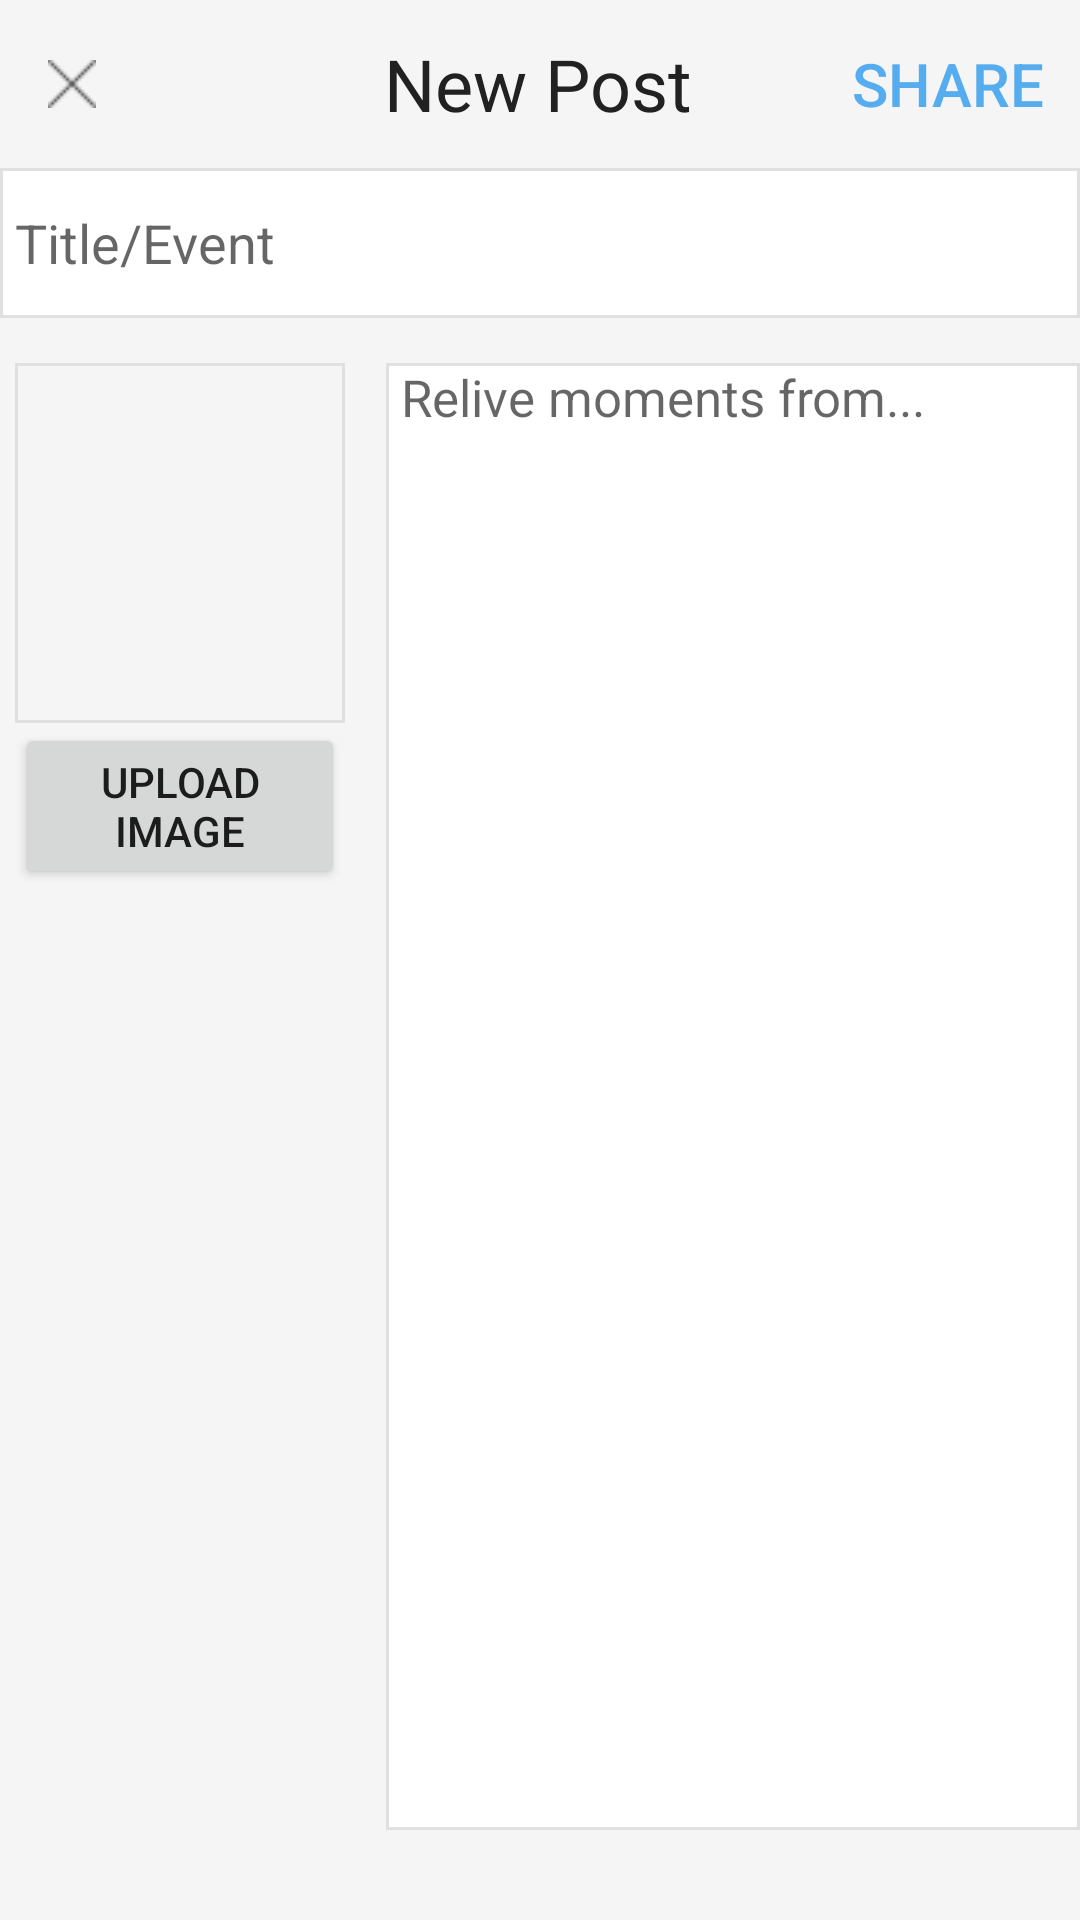

Icon bounding boxes for this 1080 x 1920 phone screenshot, format (x1, y1, x2, y2):
close: (48, 60, 96, 108)
